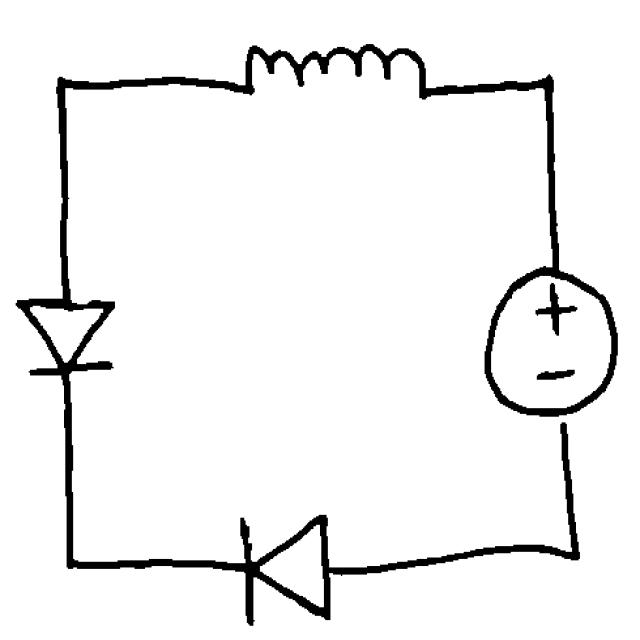dc: (474, 262, 630, 433)
diode: (223, 494, 345, 635), (7, 284, 136, 398)
inductor: (217, 33, 448, 118)
